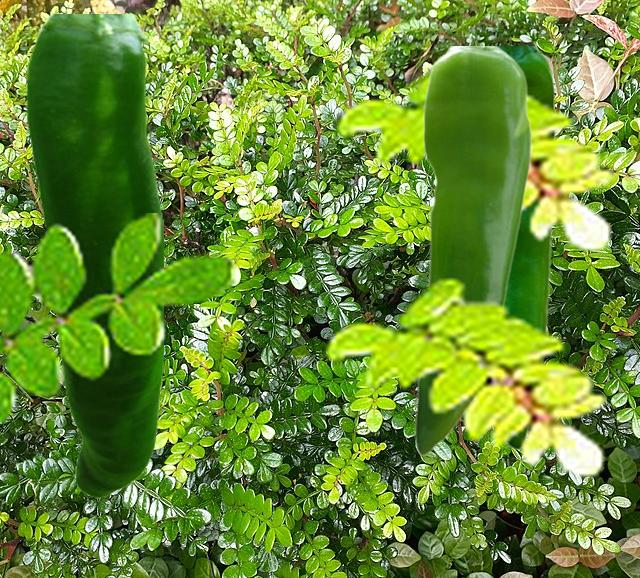green_chili: (26, 14, 162, 497), (414, 46, 530, 454), (501, 46, 555, 448)
